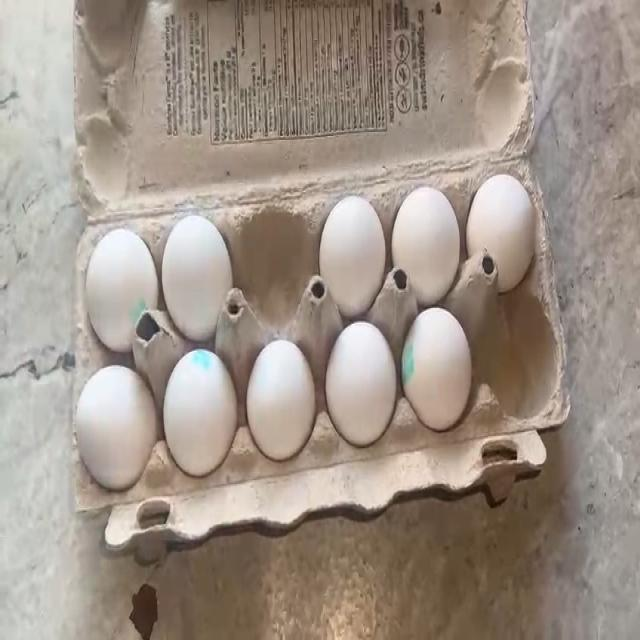Egg: (80, 224, 160, 328), (164, 358, 233, 463), (80, 373, 138, 476), (334, 334, 394, 432), (170, 216, 227, 317), (474, 172, 534, 264), (252, 348, 310, 441), (400, 186, 456, 282), (330, 202, 388, 294), (412, 319, 466, 414)
